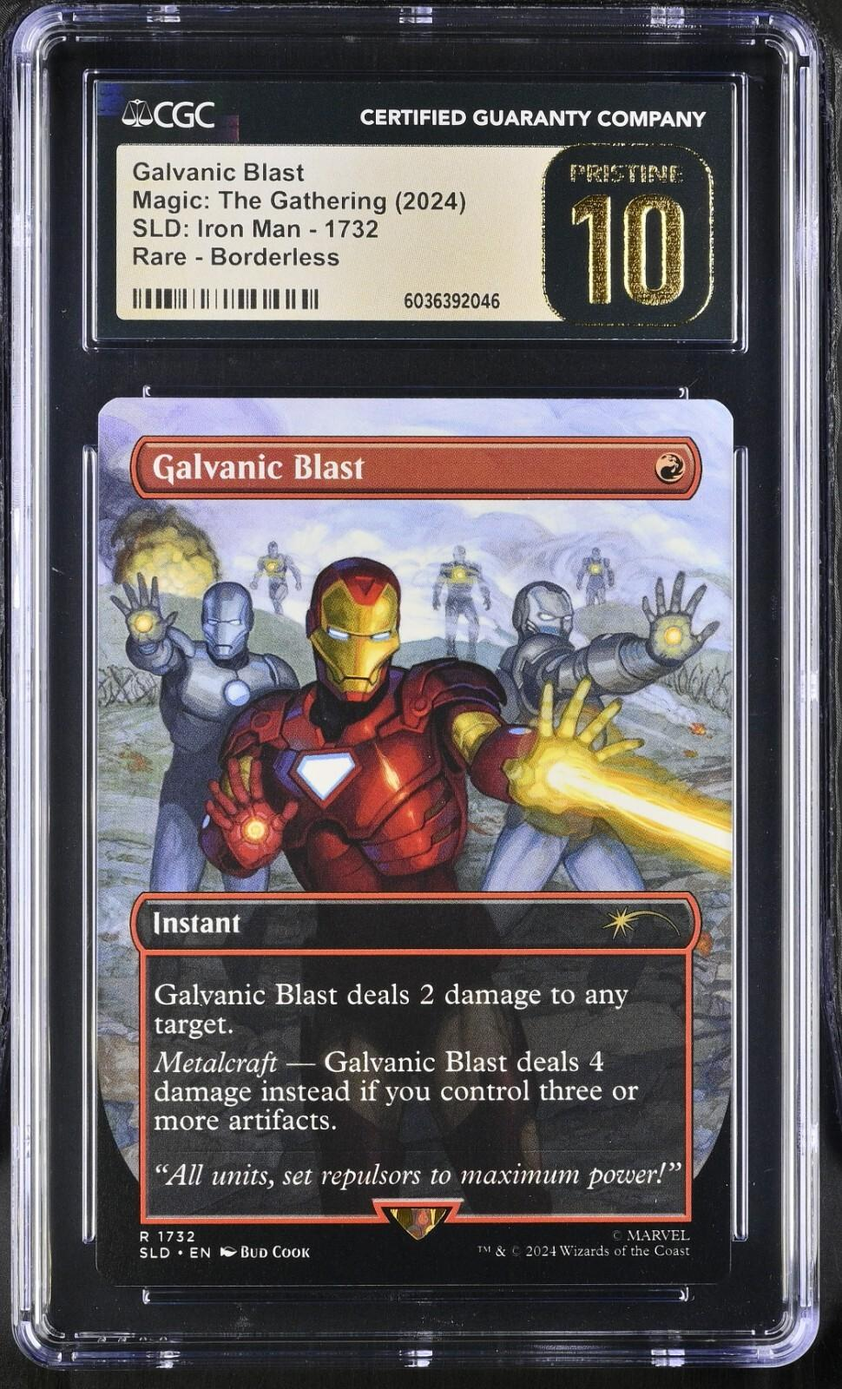card-2UtV: (95, 397, 734, 1287)
